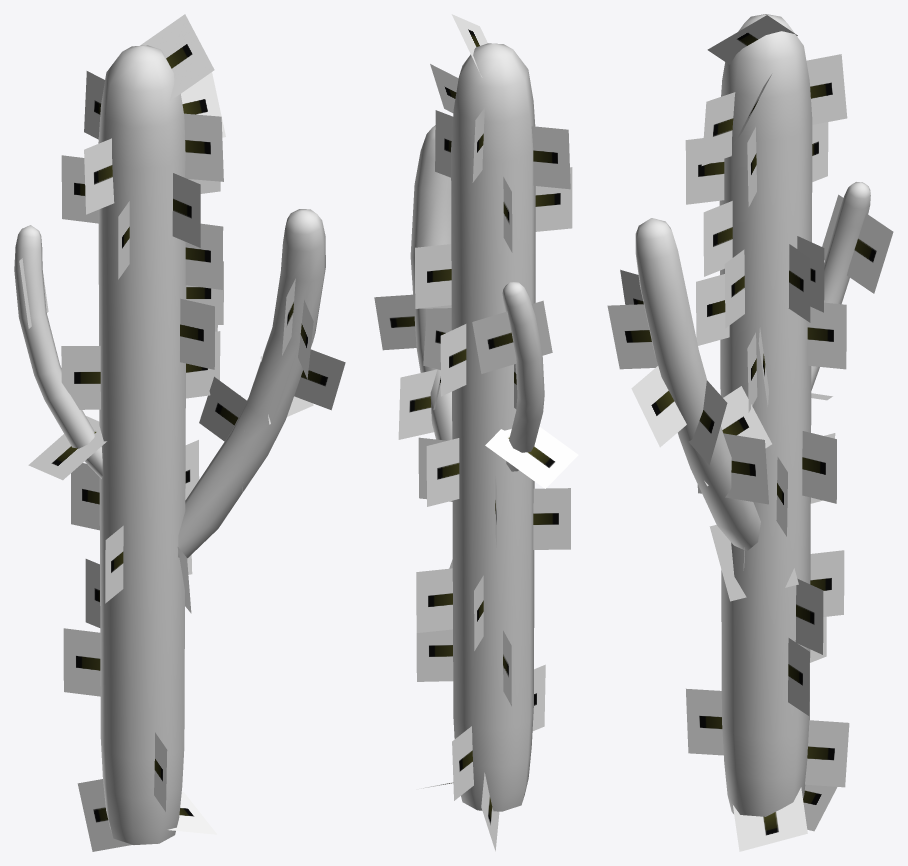
The model's file is Cactus1.fbx.
3 views of the same model, side by side, from view 1: azimuth 30°, elevation 25°; view 2: azimuth 150°, elevation 25°; view 3: azimuth 270°, elevation 25° (orthographic). The views are drawn at different scales.
Visible parts, largest first — view 1: Cactus2_01, pinchos.009, pinchos.007, pinchos.034, pinchos.030, pinchos.026, pinchos.025, pinchos.015, pinchos.027, pinchos.019, pinchos.024, pinchos.003 (+14 smaller); view 2: Cactus2_01, pinchos.019, pinchos.018, pinchos.029, pinchos.037, pinchos.040, pinchos.027, pinchos.017, pinchos.036, pinchos.014, pinchos.041, pinchos.028 (+13 smaller); view 3: Cactus2_01, pinchos.004, pinchos.018, pinchos.017, pinchos.013, pinchos.035, pinchos.002, pinchos.005, pinchos.006, pinchos.036, pinchos.015, pinchos.024 (+19 smaller).
Boxes of the visible parts, <box> form: Cactus2_01: <box>14,45,325,844</box>; pinchos.009: <box>140,14,214,101</box>; pinchos.007: <box>184,113,223,181</box>; pinchos.034: <box>63,628,100,696</box>; pinchos.030: <box>61,346,100,409</box>; pinchos.026: <box>180,298,214,369</box>; pinchos.025: <box>185,223,223,289</box>; pinchos.015: <box>294,349,345,410</box>; pinchos.027: <box>84,138,114,214</box>; pinchos.019: <box>28,416,106,480</box>; pinchos.024: <box>172,173,200,247</box>; pinchos.003: <box>77,779,132,851</box>; Cactus2_01: <box>410,43,544,811</box>; pinchos.019: <box>485,426,578,488</box>; pinchos.018: <box>472,300,552,373</box>; pinchos.029: <box>533,488,570,549</box>; pinchos.037: <box>415,244,451,308</box>; pinchos.040: <box>416,568,452,632</box>; pinchos.027: <box>531,126,570,189</box>; pinchos.017: <box>398,369,437,439</box>; pinchos.036: <box>426,438,459,506</box>; pinchos.014: <box>374,294,416,350</box>; pinchos.041: <box>416,629,453,681</box>; pinchos.028: <box>535,167,572,231</box>; Cactus2_01: <box>635,14,870,816</box>; pinchos.004: <box>805,720,849,787</box>; pinchos.018: <box>822,194,893,293</box>; pinchos.017: <box>697,433,768,504</box>; pinchos.013: <box>607,304,657,369</box>; pinchos.035: <box>807,302,846,369</box>; pinchos.002: <box>733,787,807,851</box>; pinchos.005: <box>686,688,723,755</box>; pinchos.006: <box>806,54,847,124</box>; pinchos.036: <box>802,431,836,503</box>; pinchos.015: <box>631,366,686,447</box>; pinchos.024: <box>685,138,724,204</box>.
Bounding box in the file's own units: 55.13 × 191 × 58.31.
